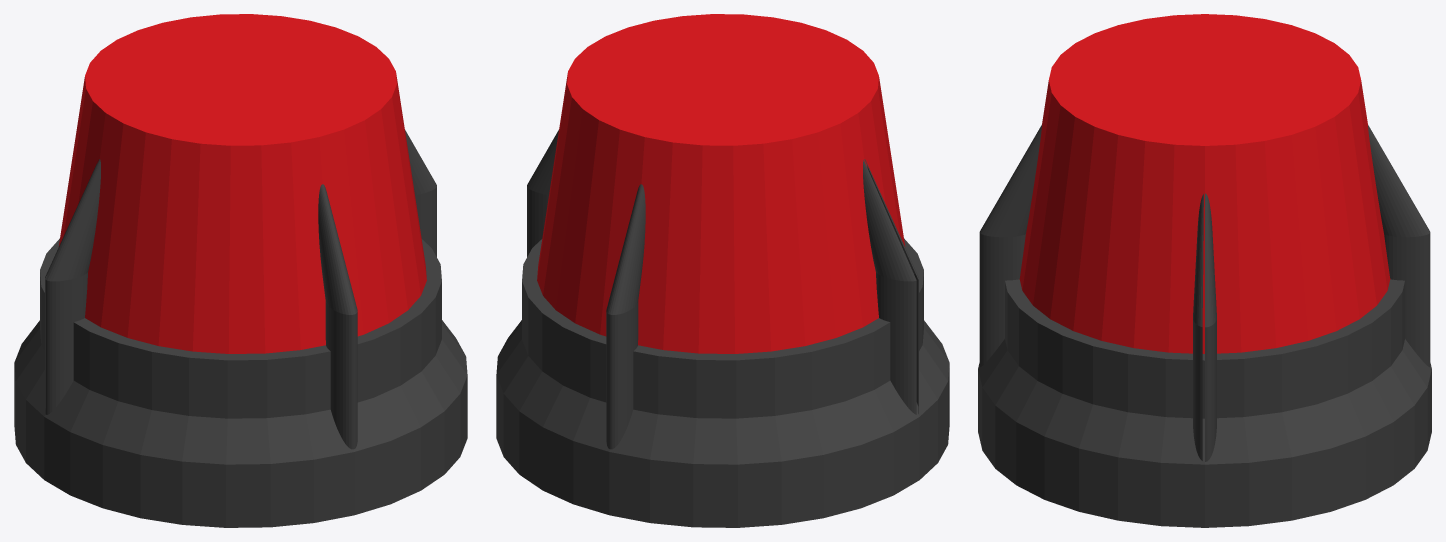
File: Light art asset.fbx
3 renders of one model, left to right at view 1: azimuth 30°, elevation 25°; view 2: azimuth 150°, elevation 25°; view 3: azimuth 270°, elevation 25°, orthographic.
Visible parts, largest first — view 1: Emergency light; view 2: Emergency light; view 3: Emergency light.
Boxes of the visible parts, x1,y1,x2,y2 form: Emergency light: [14, 14, 467, 527]; Emergency light: [496, 14, 949, 527]; Emergency light: [978, 14, 1431, 527].
Size of the model in its own units: 24.12 by 20.64 by 24.12.
